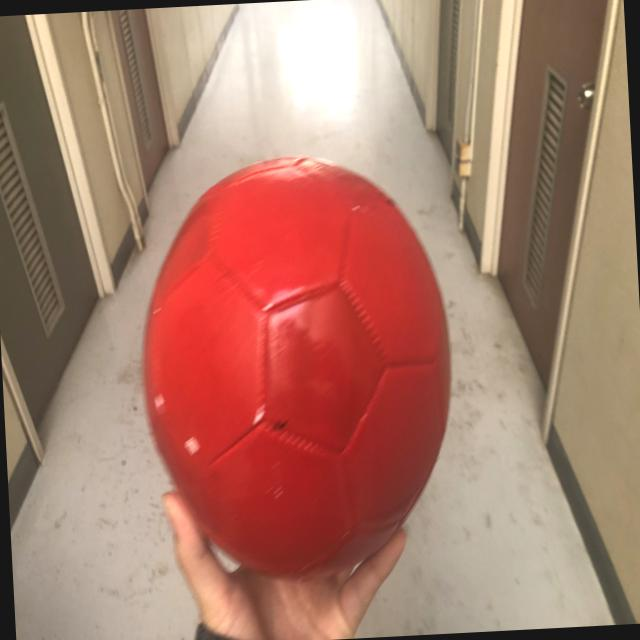red_ball: (130, 150, 463, 586)
